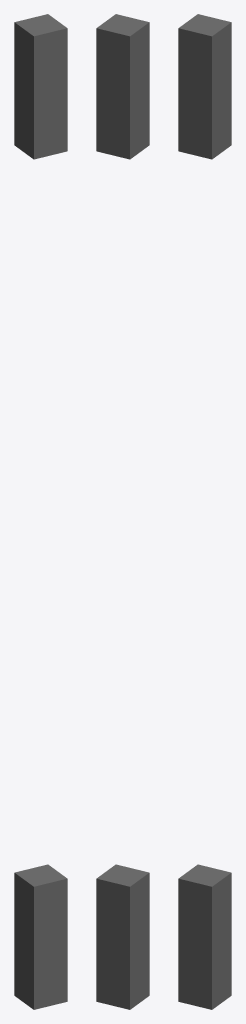
File: DoorFurniture_01_dra.glb
3 views of the same model, side by side, from view 1: azimuth 30°, elevation 25°; view 2: azimuth 150°, elevation 25°; view 3: azimuth 330°, elevation 25° (orthographic).
Parts seen in each view (by area): view 1: DoorFurniture_01; view 2: DoorFurniture_01; view 3: DoorFurniture_01.
Boxes of the visible parts, box(x1,y1,x2,y2) form: DoorFurniture_01: box(14, 14, 67, 1009); DoorFurniture_01: box(96, 14, 149, 1009); DoorFurniture_01: box(178, 14, 231, 1009).
Size of the model in its own units: 0.0493 by 1.37 by 0.0493.
1 material, 1 textured.
